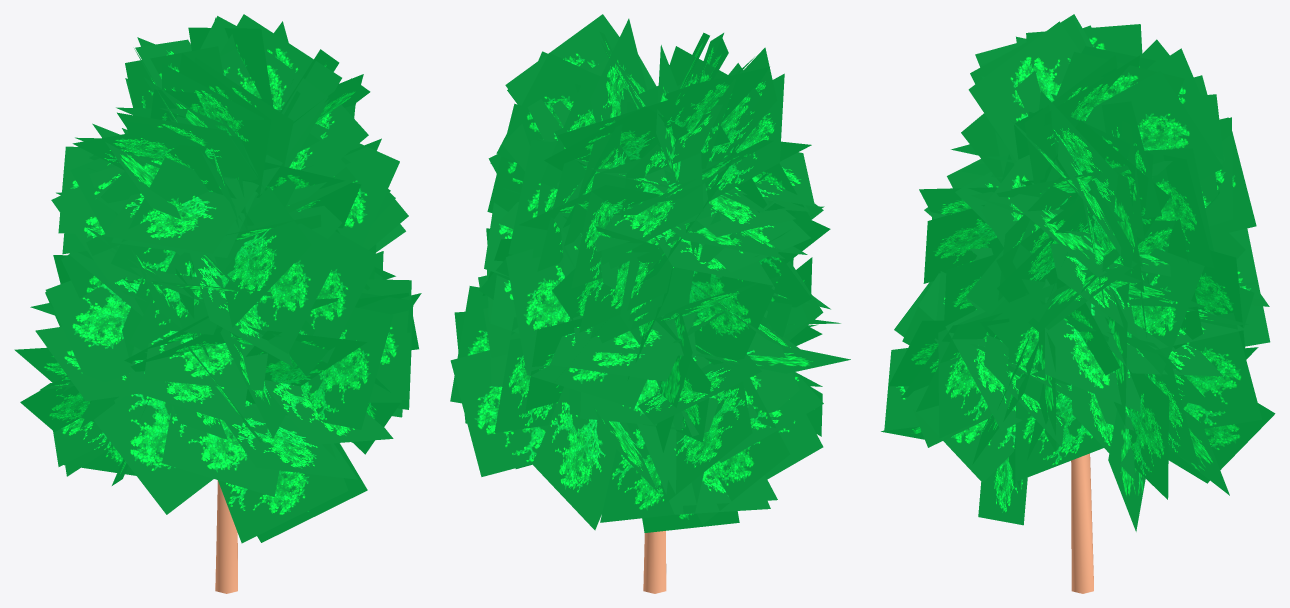
The model's file is tree.gltf.
The picture shows the model from 3 angles, left to right: view 1: azimuth 30°, elevation 25°; view 2: azimuth 150°, elevation 25°; view 3: azimuth 270°, elevation 25°; orthographic projection.
Visible parts, largest first — view 1: mesh_1, mesh_0; view 2: mesh_1, mesh_0; view 3: mesh_1, mesh_0.
Boxes of the visible parts, x1,y1,x2,y2 form: mesh_1: (14, 14, 421, 543); mesh_0: (215, 480, 237, 593); mesh_1: (450, 14, 850, 532); mesh_0: (643, 531, 666, 593); mesh_1: (881, 14, 1275, 531); mesh_0: (1070, 196, 1093, 593).
Bounding box in the file's own units: 6.46 × 10.22 × 6.64.
2 materials, 1 textured.
